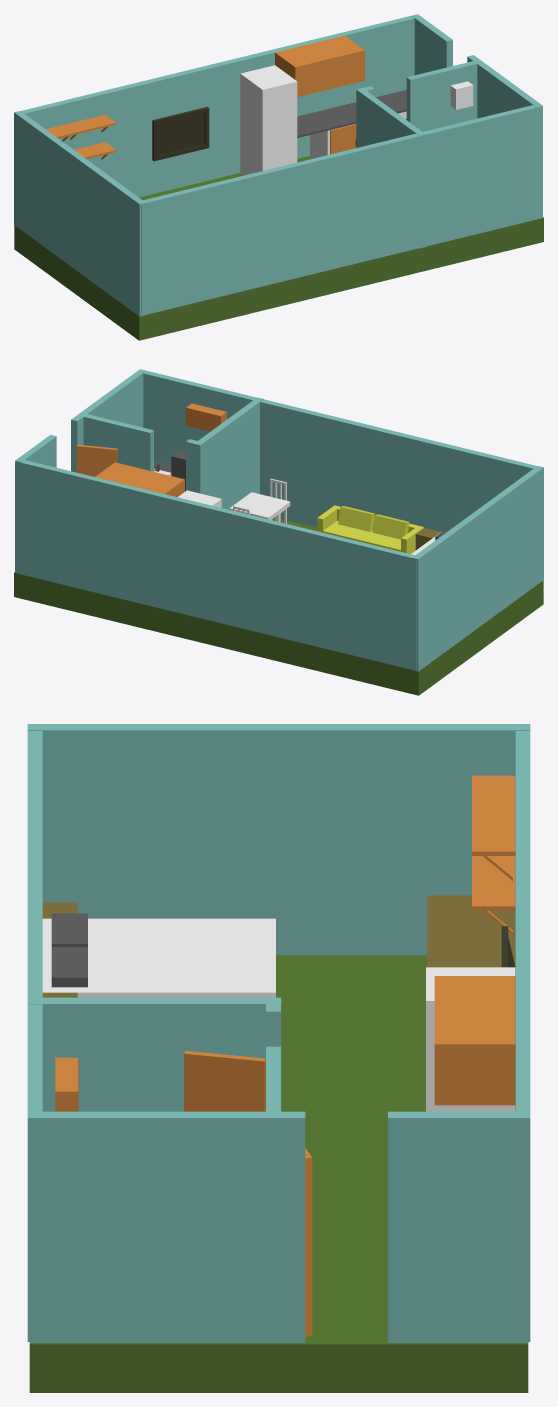
Rendered from room 1.fbx.
3 renders of one model, top to bottom at view 1: azimuth 30°, elevation 25°; view 2: azimuth 150°, elevation 25°; view 3: azimuth 270°, elevation 25°, orthographic. The views are drawn at different scales.
Parts seen in each view (by area): view 1: wall2, wall1, wall3, floor1, fridge, wall7, wall6, TV, wall4, pCube22, pCube38, pCube23 (+6 smaller); view 2: wall1, wall2, wall3, floor1, wall6, wall7, wall4, sofa_body, door_bathroom1, dining_table, pCube22, pCube36 (+6 smaller); view 3: wall3, floor1, wall4, wall5, wall6, bed_body, pCube23, wall1, wall2, desk, door_bathroom, pCube22 (+9 smaller).
Boxes of the visible parts, left/top/right/bottom form: wall2: left=141, top=105, right=542, bottom=315; wall1: left=21, top=15, right=414, bottom=197; wall3: left=14, top=111, right=145, bottom=316; floor1: left=14, top=156, right=543, bottom=340; fridge: left=240, top=65, right=297, bottom=175; wall7: left=406, top=61, right=477, bottom=131; wall6: left=356, top=88, right=426, bottom=248; TV: left=152, top=106, right=209, bottom=161; wall4: left=467, top=55, right=542, bottom=118; pCube22: left=275, top=44, right=330, bottom=97; pCube38: left=297, top=90, right=406, bottom=137; pCube23: left=310, top=35, right=364, bottom=89; wall1: left=15, top=460, right=416, bottom=670; wall2: left=143, top=370, right=536, bottom=531; wall3: left=412, top=466, right=543, bottom=671; floor1: left=14, top=517, right=543, bottom=695; wall6: left=194, top=397, right=263, bottom=509; wall7: left=83, top=414, right=153, bottom=471; wall4: left=71, top=369, right=145, bottom=472; sofa_body: left=317, top=505, right=423, bottom=553; door_bathroom1: left=76, top=444, right=117, bottom=476; dining_table: left=229, top=492, right=290, bottom=522; pCube22: left=130, top=471, right=184, bottom=497; pCube36: left=186, top=403, right=226, bottom=431; wall3: left=27, top=724, right=530, bottom=955; floor1: left=29, top=955, right=528, bottom=1392; wall4: left=29, top=1111, right=305, bottom=1342; wall5: left=388, top=1111, right=528, bottom=1342; wall6: left=27, top=997, right=281, bottom=1111; bed_body: left=42, top=918, right=275, bottom=997; pCube23: left=434, top=1010, right=515, bottom=1105; wall1: left=515, top=731, right=530, bottom=1341; wall2: left=27, top=731, right=42, bottom=1341; desk: left=427, top=895, right=515, bottom=967; door_bathroom: left=184, top=1050, right=265, bottom=1111; pCube22: left=434, top=976, right=515, bottom=1009.
Size of the model in its own units: 1873 by 605 by 1007.
